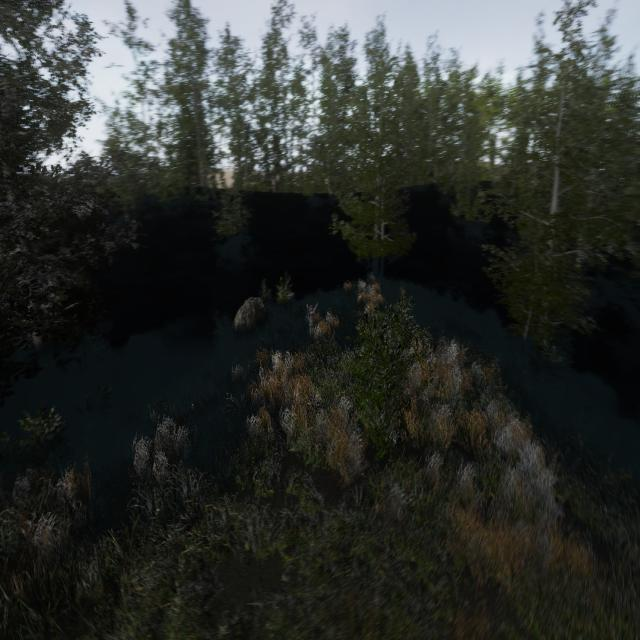Human: (303, 296, 321, 352)
